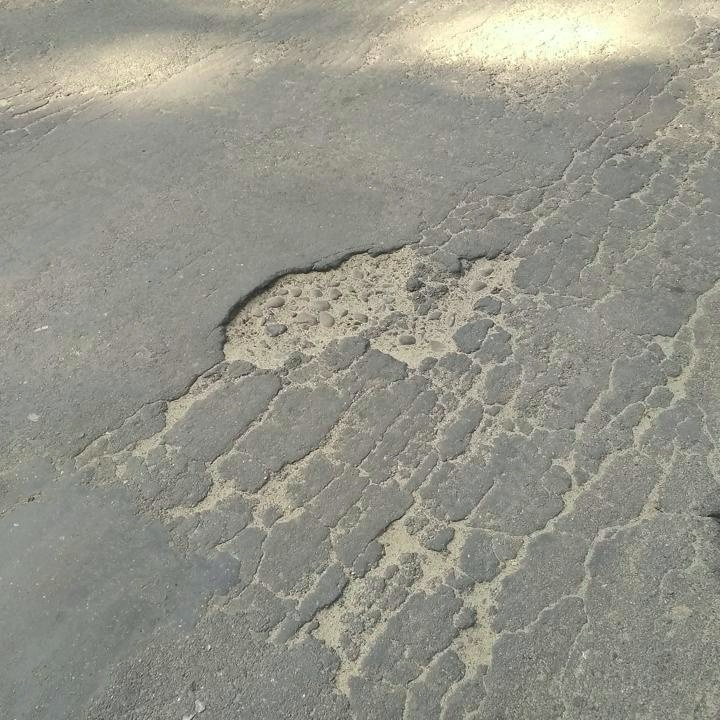pothole: (212, 239, 524, 377)
